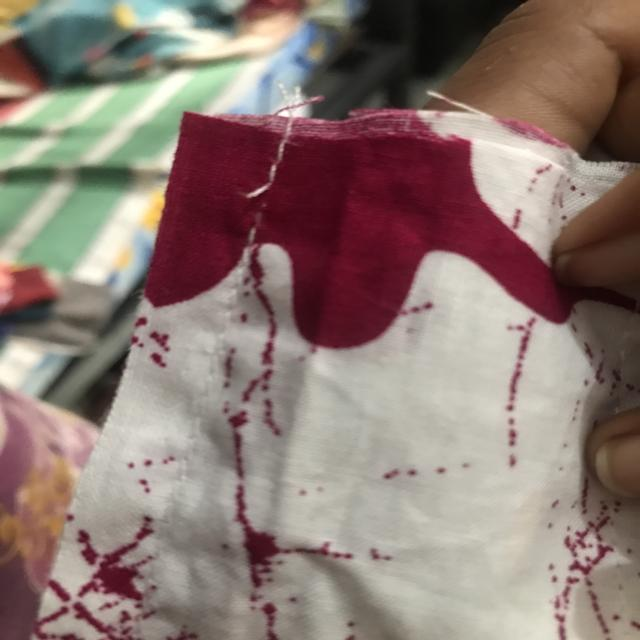broken: (237, 172, 277, 228)
